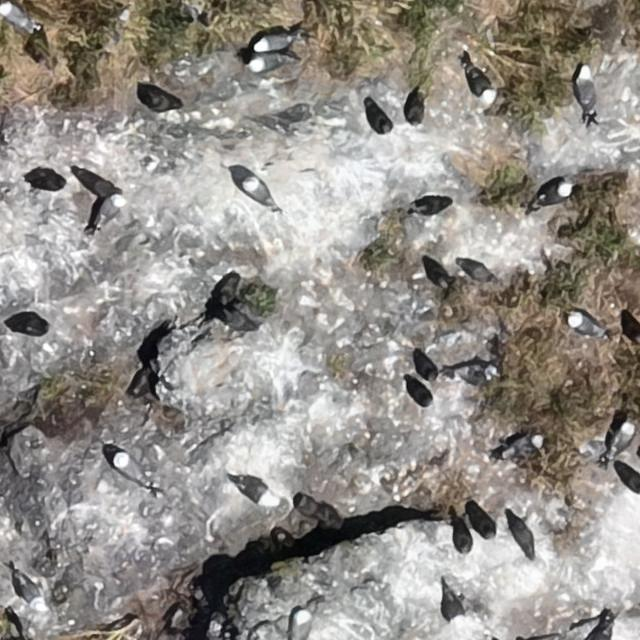umineko: (494, 431, 544, 464), (233, 475, 279, 506), (442, 585, 466, 626), (115, 455, 145, 484), (570, 312, 603, 336), (2, 4, 32, 30), (7, 314, 46, 334), (469, 71, 494, 102), (244, 179, 272, 206), (366, 105, 391, 135), (615, 464, 640, 494), (612, 423, 635, 454), (538, 183, 570, 205), (97, 194, 121, 223), (577, 72, 595, 110), (254, 35, 292, 52), (462, 262, 493, 282), (409, 383, 432, 408), (293, 612, 310, 639), (252, 54, 280, 70)
